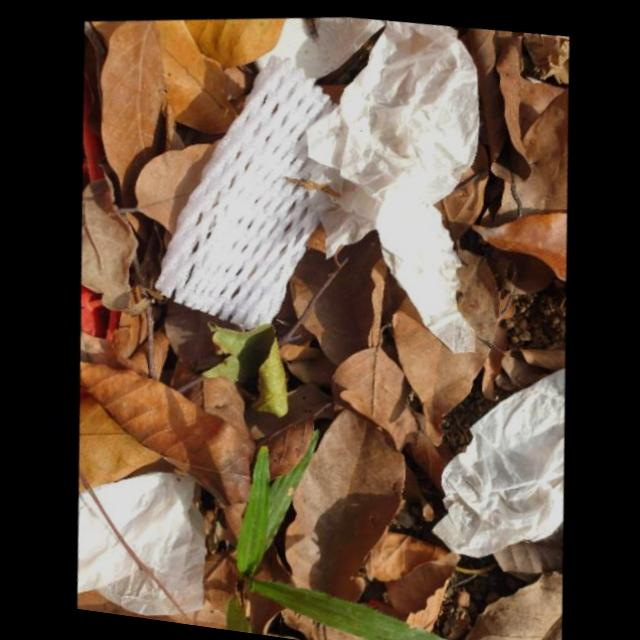giay: (307, 18, 480, 351), (430, 365, 564, 555), (76, 466, 204, 610), (256, 13, 388, 75)
la_cay: (235, 425, 450, 640), (80, 355, 250, 542), (284, 405, 403, 600), (392, 247, 500, 443), (76, 544, 238, 629), (290, 221, 386, 361), (467, 25, 531, 215), (331, 320, 416, 449), (110, 133, 223, 229), (101, 14, 167, 176), (494, 85, 569, 225), (364, 522, 459, 629), (81, 172, 154, 311), (78, 389, 189, 480), (156, 14, 238, 128), (200, 317, 287, 414), (463, 568, 561, 640), (434, 138, 488, 256), (472, 212, 567, 279), (184, 14, 288, 63), (491, 246, 556, 313), (486, 338, 565, 387), (279, 605, 387, 640), (224, 589, 252, 634)
